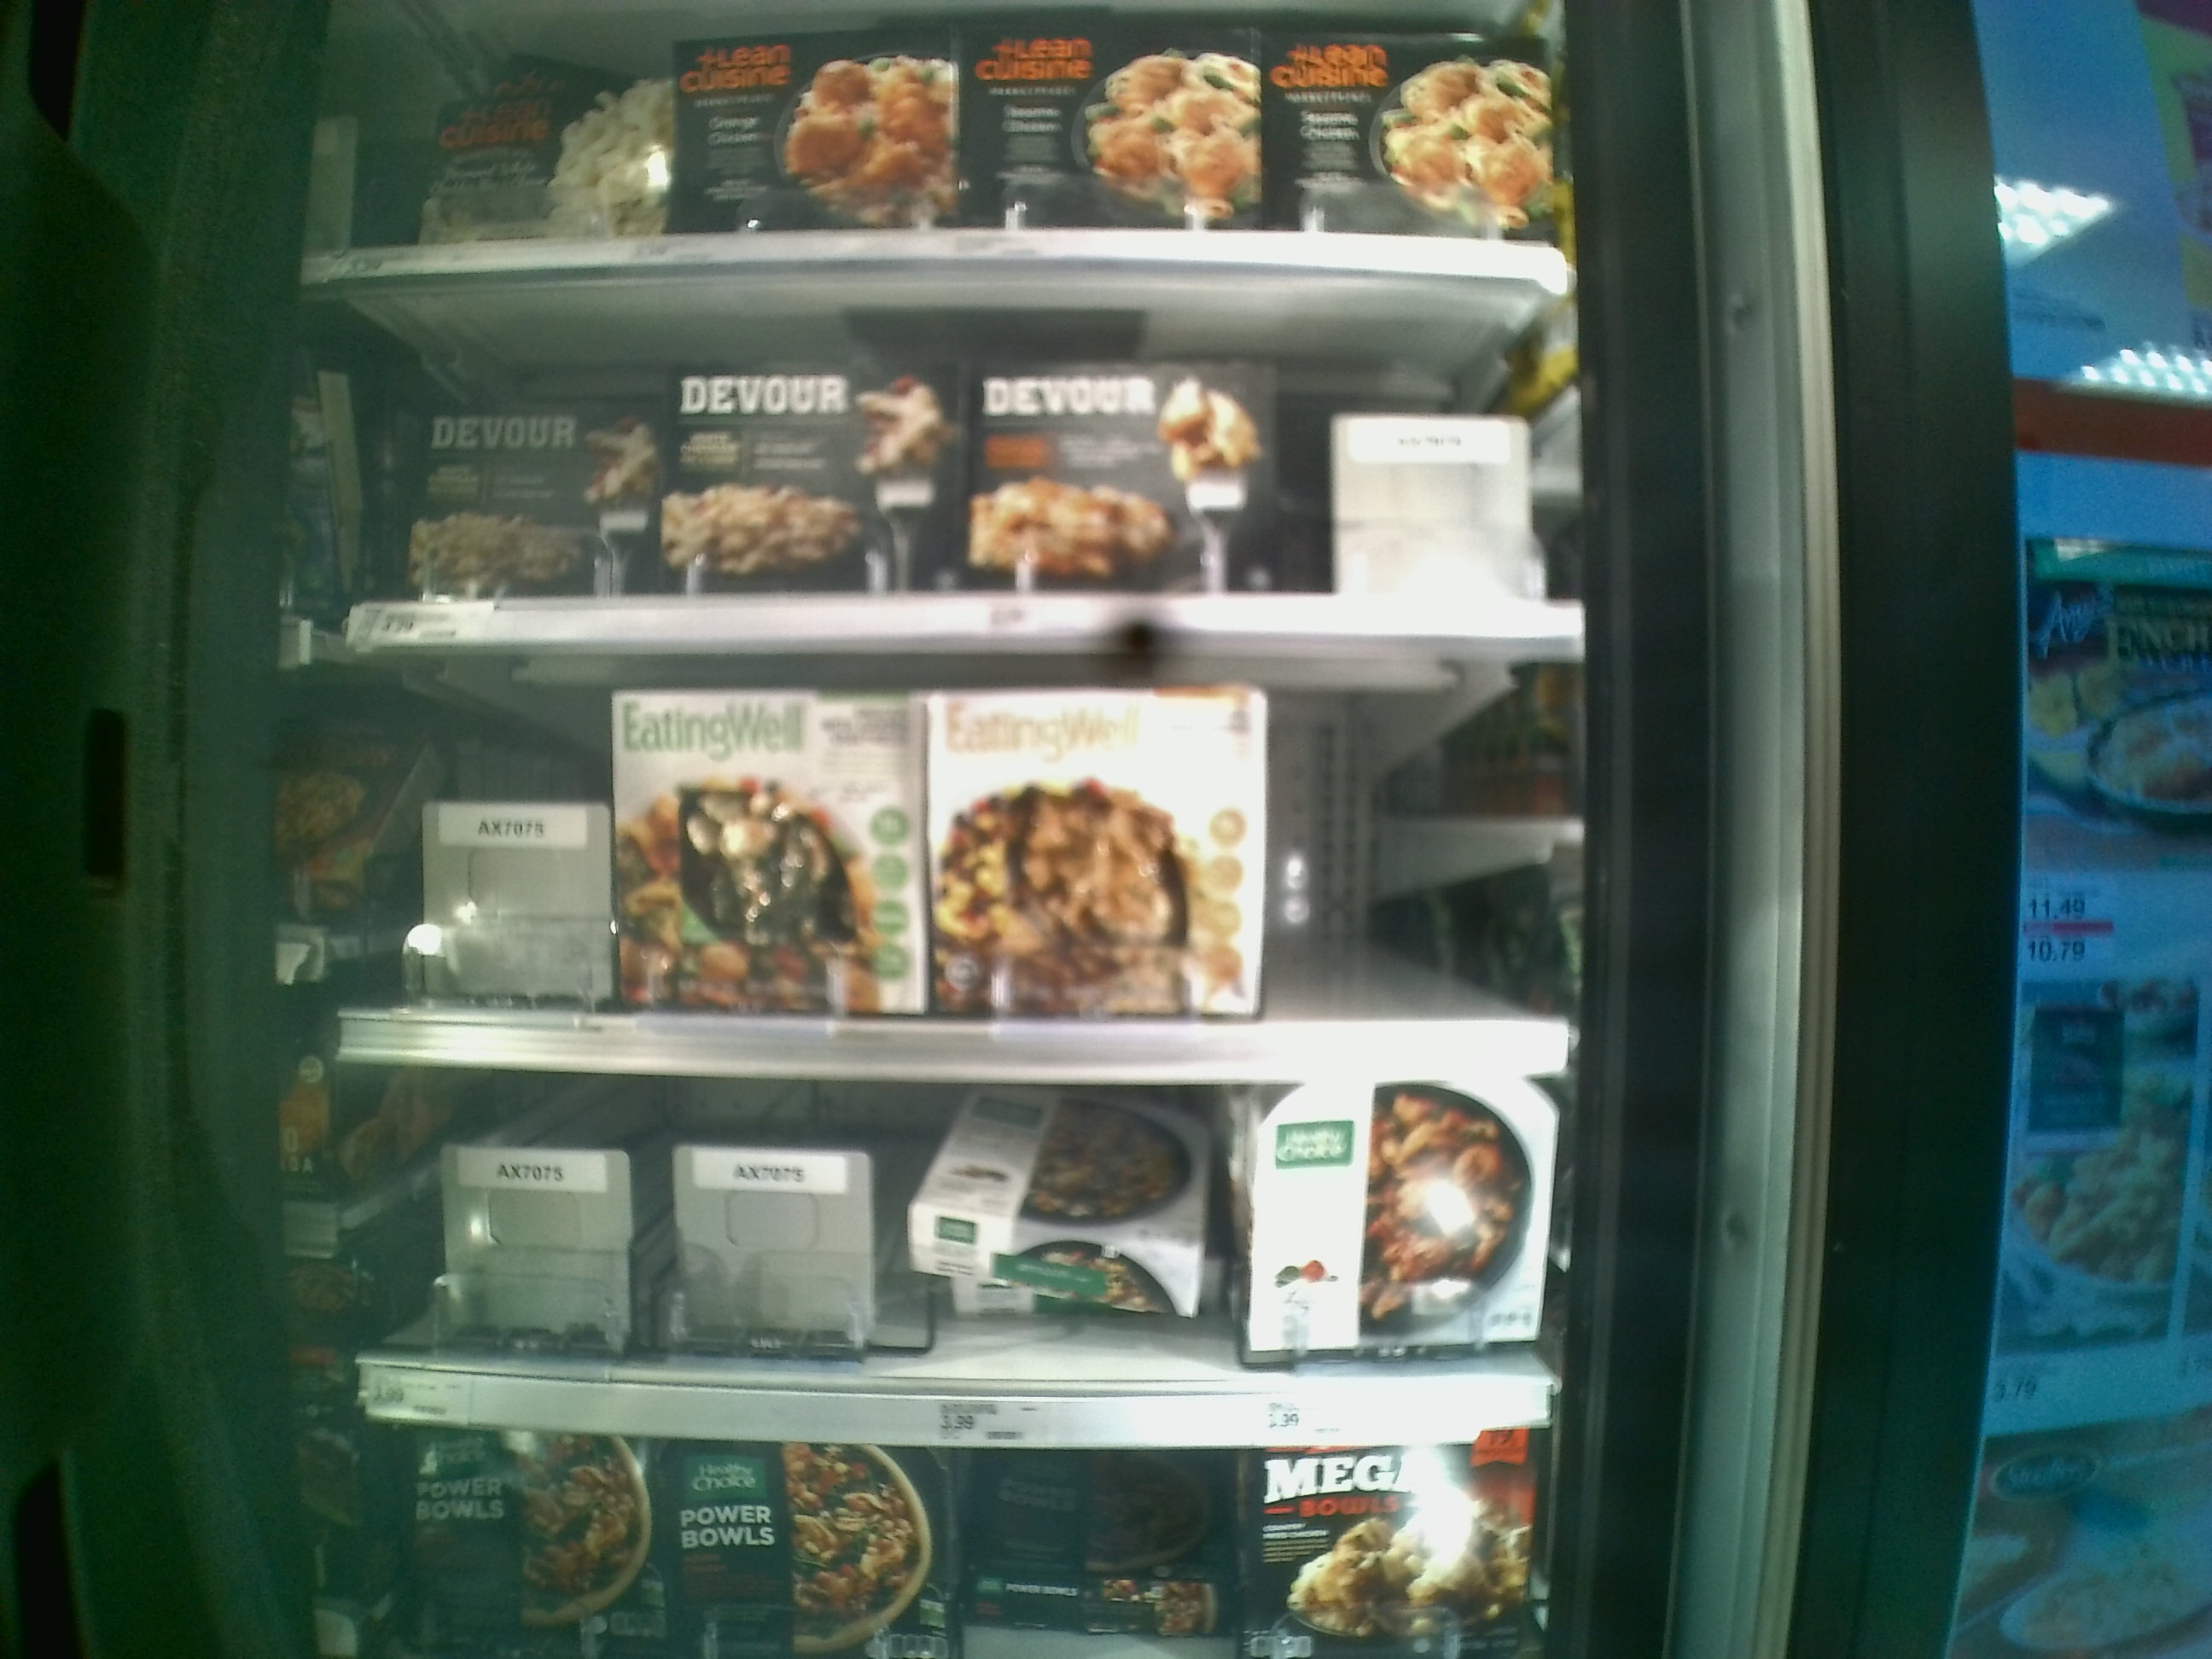shelf: (320, 633, 1588, 1070), (334, 1054, 1588, 1452), (301, 260, 1583, 636)
